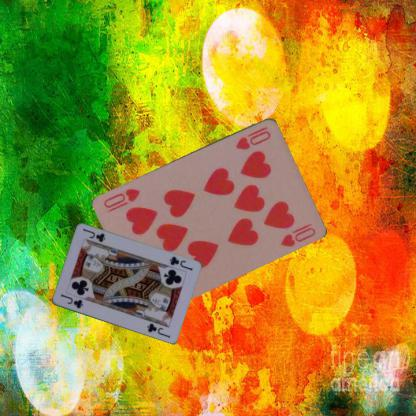10h: (234, 124, 272, 150)
Jc: (166, 254, 194, 272), (58, 292, 84, 310)
